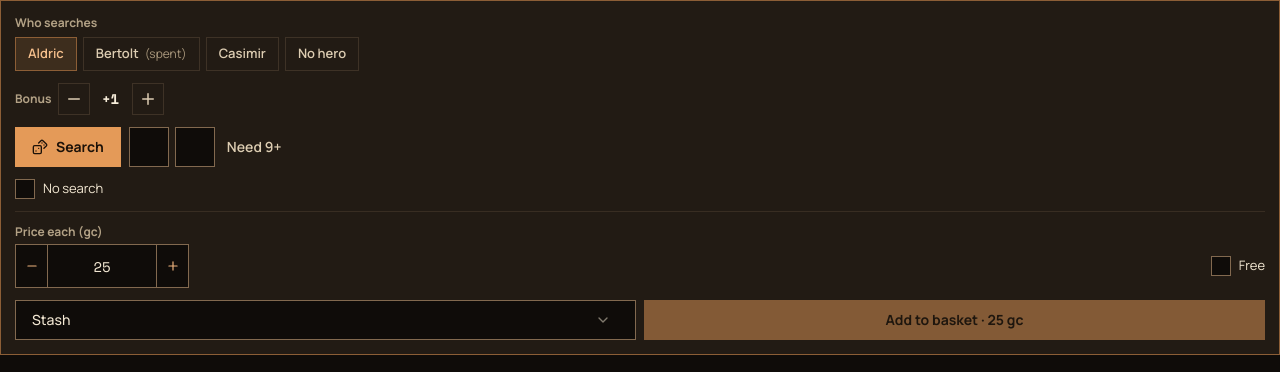
Test case: AcquireForm › lets another hero search after one fails
This screenshot has width=1280, height=372.
Click the button "Search" at point(68, 147), box [15,127,121,167]
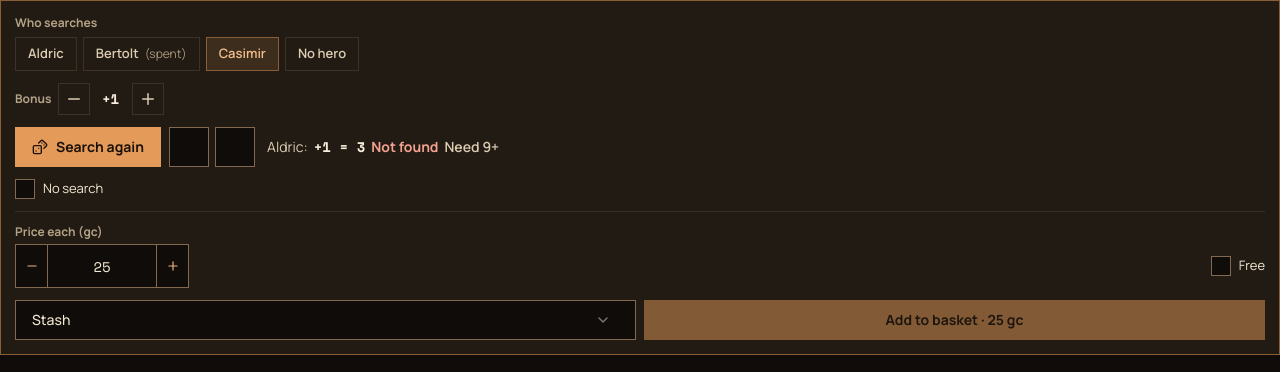
Expected: the button "Bertolt (spent)" is enabled, [83,37,200,71]
Now the message shows "Aldric: +1 = 3 Not found", box [267,137,499,157]
Click the button "Search again" at point(88, 147), box [15,127,161,167]
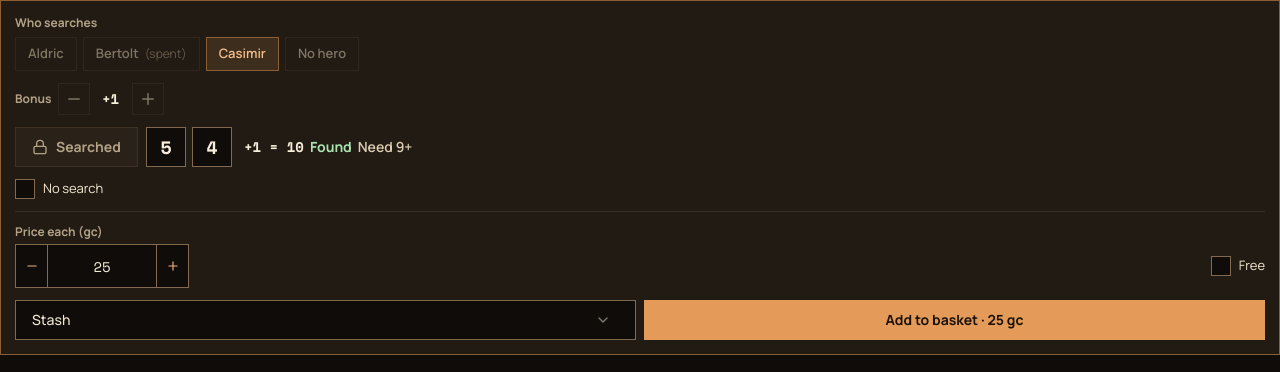
Now the button "Searched" is disabled, box [15,127,138,167]
